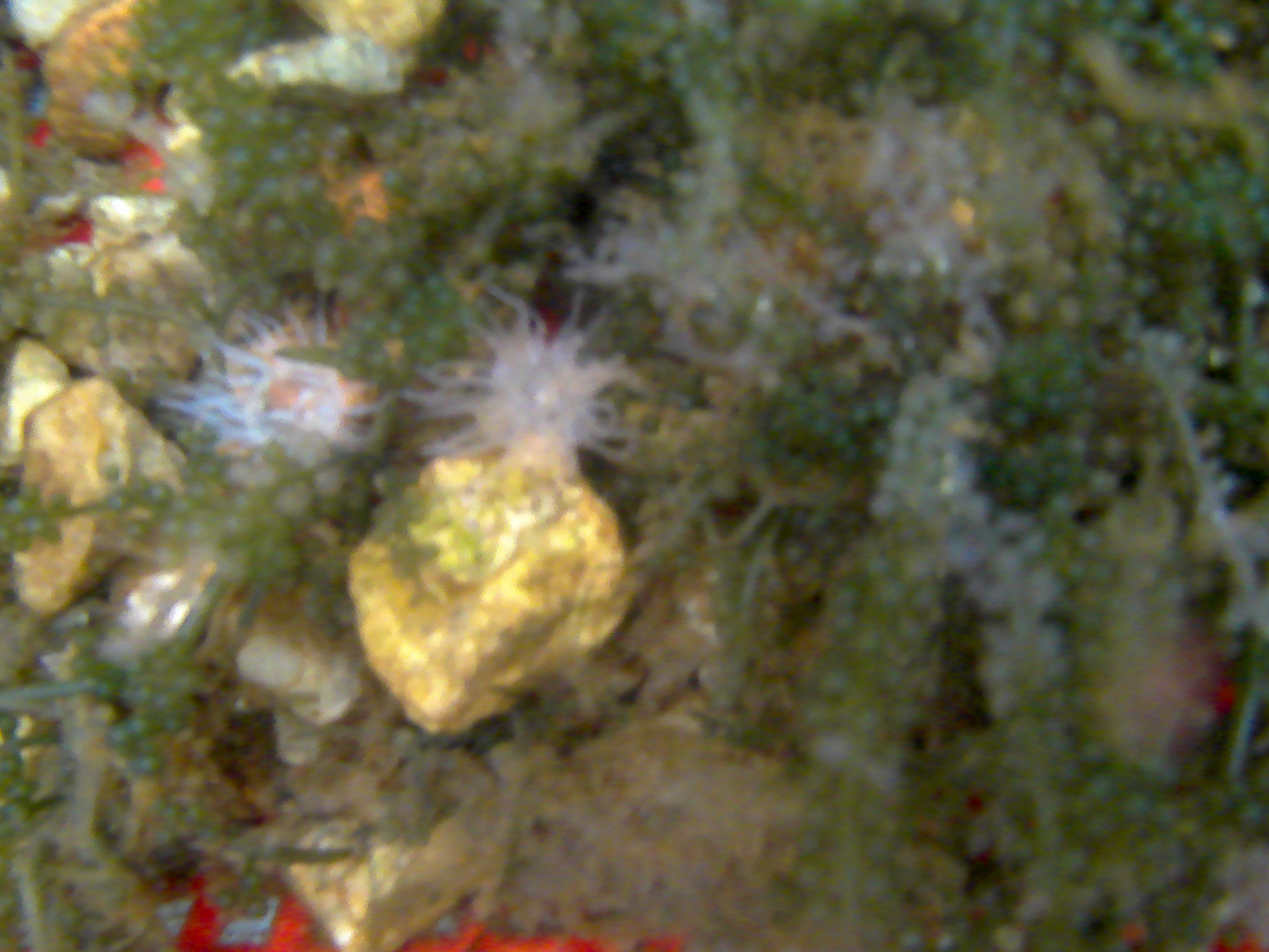Darkening: (1101, 433, 1130, 461), (1239, 5, 1261, 27), (437, 913, 459, 935), (986, 427, 1007, 448), (143, 863, 161, 881), (1225, 930, 1242, 948), (156, 878, 170, 892)
Harvestable: (802, 802, 836, 834), (1055, 295, 1085, 327), (794, 861, 825, 891), (1088, 114, 1118, 144), (370, 230, 398, 262), (893, 613, 920, 646), (805, 769, 834, 799), (340, 272, 369, 301), (893, 700, 923, 728), (807, 703, 833, 735), (225, 144, 254, 172), (265, 141, 294, 169), (795, 829, 825, 855), (198, 42, 229, 67), (866, 833, 894, 860), (1089, 469, 1118, 495), (908, 583, 935, 610), (298, 175, 326, 201), (821, 666, 846, 695), (382, 266, 409, 292), (878, 663, 904, 690), (1241, 179, 1268, 205), (242, 107, 267, 135), (836, 585, 861, 613), (1182, 16, 1207, 43), (898, 926, 925, 951), (879, 469, 906, 494), (314, 243, 338, 271), (259, 175, 282, 204), (871, 869, 893, 899), (968, 17, 994, 42), (1129, 275, 1156, 299), (1049, 493, 1074, 518), (1029, 40, 1054, 65), (1056, 75, 1081, 100), (264, 214, 290, 238), (1240, 801, 1266, 825), (1031, 0, 1057, 24), (881, 579, 903, 607), (801, 0, 833, 19), (1064, 434, 1089, 458), (1155, 39, 1179, 64), (1078, 528, 1103, 552), (180, 91, 206, 114), (858, 624, 878, 653), (1064, 558, 1088, 582), (382, 167, 406, 191), (665, 41, 689, 65), (1189, 218, 1213, 242), (1212, 384, 1237, 407), (172, 494, 197, 517), (295, 146, 321, 168), (274, 109, 295, 136), (1248, 383, 1269, 410), (167, 61, 191, 84), (1005, 407, 1029, 430), (657, 13, 680, 37), (1169, 182, 1193, 205), (1109, 16, 1133, 39), (1128, 233, 1151, 256), (1169, 0, 1192, 23), (107, 724, 130, 747), (1041, 432, 1064, 455), (712, 25, 735, 48), (128, 715, 152, 737), (137, 753, 162, 774), (200, 132, 223, 154), (1143, 208, 1166, 230), (873, 396, 895, 419), (200, 111, 224, 132), (313, 201, 339, 220), (1124, 0, 1150, 19), (235, 73, 257, 95), (27, 514, 49, 536), (882, 740, 903, 763), (893, 646, 914, 669), (9, 496, 31, 517), (184, 22, 207, 42), (163, 29, 182, 53), (835, 613, 853, 638), (1090, 0, 1116, 17), (865, 557, 886, 578), (850, 404, 871, 425), (671, 70, 692, 91), (1119, 323, 1140, 344), (315, 271, 337, 291), (1209, 346, 1229, 368), (217, 77, 236, 100), (353, 217, 373, 238), (150, 483, 171, 503), (424, 274, 445, 294), (1079, 384, 1099, 405), (96, 679, 117, 699), (386, 318, 407, 338), (368, 351, 389, 371), (129, 520, 149, 541), (1049, 461, 1070, 481), (1120, 347, 1140, 367), (216, 890, 236, 910), (871, 437, 891, 457), (831, 429, 851, 449), (1188, 336, 1207, 357), (1251, 348, 1269, 370), (230, 175, 254, 191), (1172, 56, 1191, 76), (1149, 183, 1168, 203), (242, 872, 262, 890), (1238, 314, 1256, 334), (109, 493, 128, 511), (12, 535, 31, 553), (1252, 205, 1269, 225), (146, 46, 165, 63), (164, 715, 183, 732), (900, 334, 917, 353), (145, 17, 165, 33), (0, 757, 18, 774), (1125, 310, 1143, 327), (0, 524, 13, 544), (1065, 0, 1087, 11)
Whitening: (944, 539, 979, 573), (975, 656, 1012, 686), (986, 687, 1019, 716), (998, 551, 1030, 579), (1034, 568, 1060, 602), (994, 925, 1026, 952), (1209, 23, 1238, 51), (1021, 532, 1048, 562), (907, 549, 934, 579), (671, 169, 701, 196), (925, 513, 957, 537), (923, 380, 948, 410), (963, 491, 989, 518), (873, 495, 898, 523), (983, 583, 1007, 612), (866, 209, 889, 238), (1160, 331, 1185, 357), (942, 144, 964, 172), (999, 507, 1020, 536), (901, 388, 923, 415), (912, 490, 939, 512), (892, 419, 916, 443), (1139, 327, 1163, 351), (870, 253, 891, 280), (905, 255, 925, 283), (926, 183, 945, 211), (888, 449, 913, 470), (1040, 626, 1058, 655), (1051, 655, 1072, 679), (939, 476, 961, 497), (984, 625, 1004, 648), (879, 473, 896, 492), (961, 174, 976, 193), (918, 433, 934, 450)
